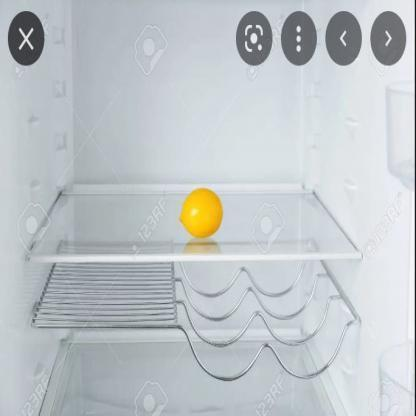lemon: (179, 187, 222, 236)
